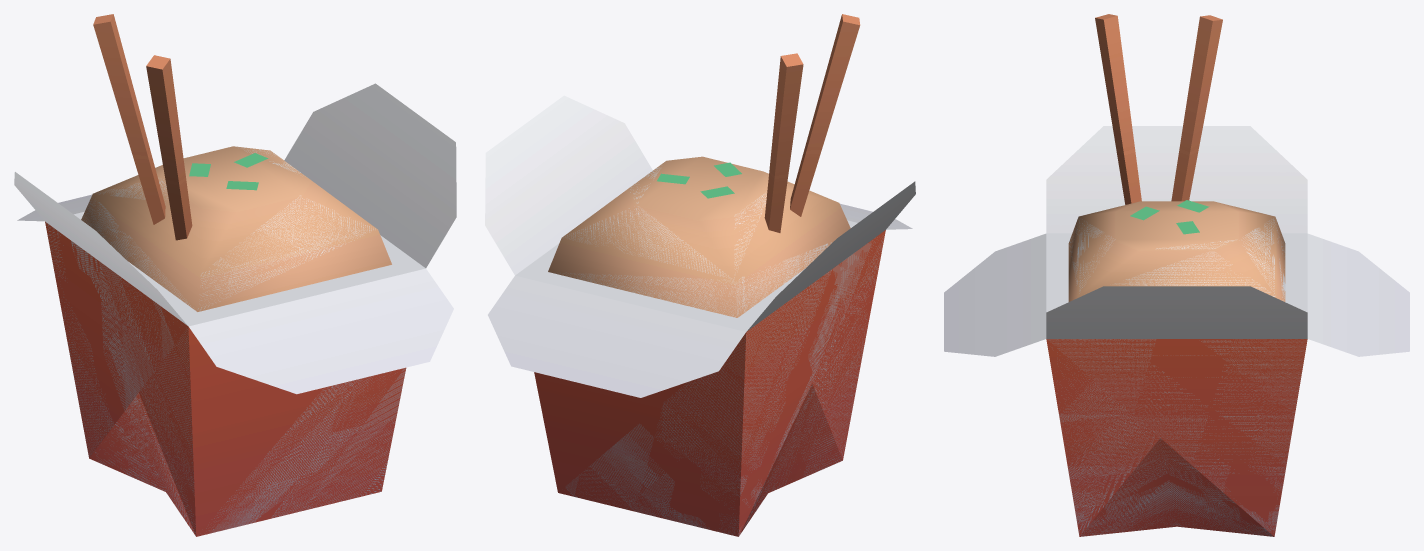
The model's file is kenney-food-chinese.glb.
3 renders of one model, left to right at view 1: azimuth 30°, elevation 25°; view 2: azimuth 150°, elevation 25°; view 3: azimuth 270°, elevation 25°, orthographic. The views are drawn at different scales.
Visible parts, largest first — view 1: chinese; view 2: chinese; view 3: chinese.
Part boxes in pixels (x1,y1,x2,y2): chinese: [14, 14, 456, 536]; chinese: [485, 14, 915, 536]; chinese: [944, 14, 1409, 536].
Bounding box in the file's own units: 0.4539 × 0.5671 × 0.5575.
1 material, 1 textured.
